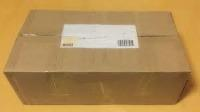undamaged: (0, 7, 194, 106)
